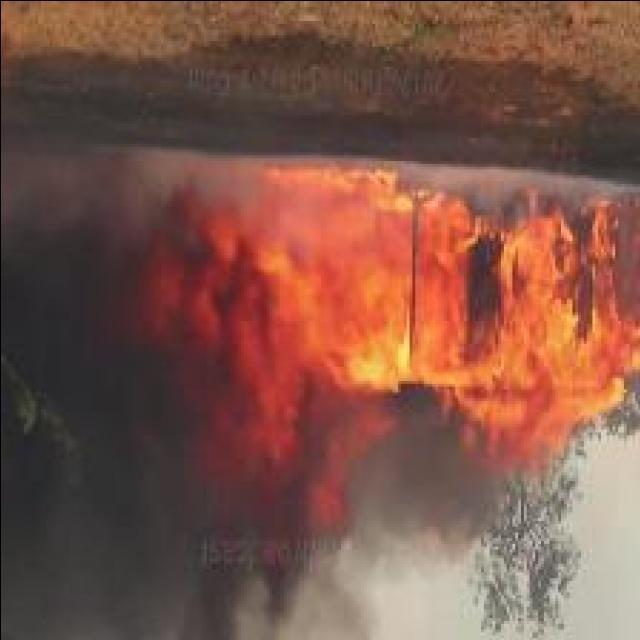Fire: (143, 155, 640, 568)
